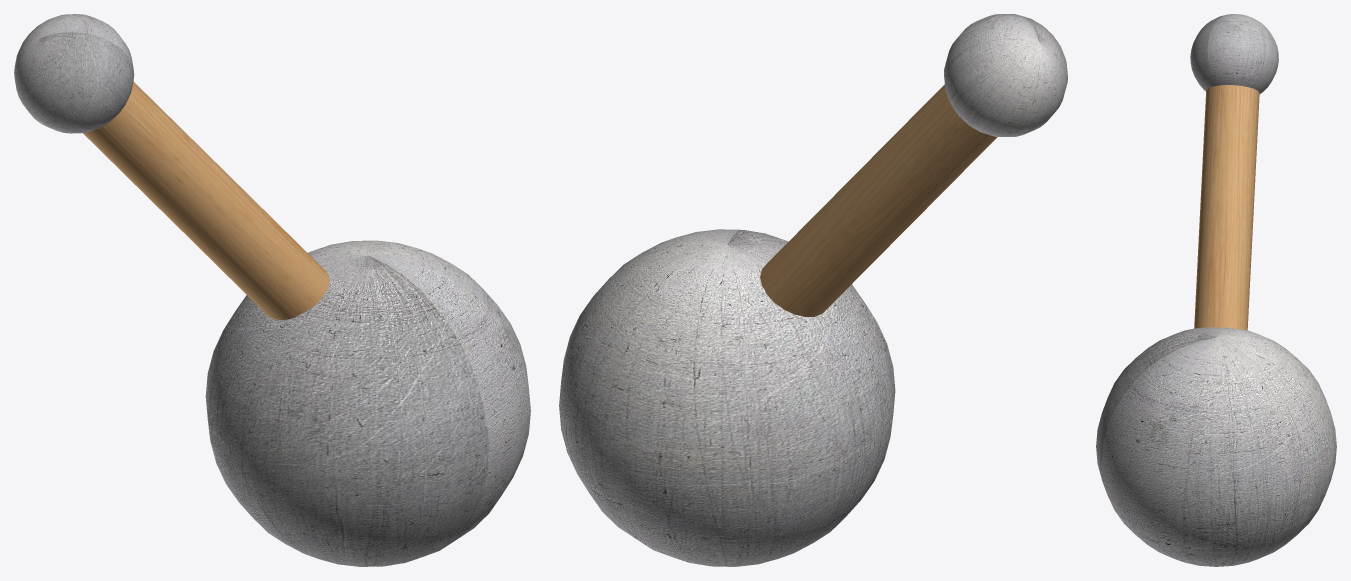
Rendered from controlleron.obj.
3 views of the same model, side by side, from view 1: azimuth 30°, elevation 25°; view 2: azimuth 150°, elevation 25°; view 3: azimuth 270°, elevation 25° (orthographic). The views are drawn at different scales.
Parts seen in each view (by area): view 1: controller2:pSphere3 controller2:group2, controller2:group2 controller2:pCylinder1, controller2:group2 controller2:pCylinder1 controller2:pSphere2; view 2: controller2:pSphere3 controller2:group2, controller2:group2 controller2:pCylinder1, controller2:group2 controller2:pCylinder1 controller2:pSphere2; view 3: controller2:pSphere3 controller2:group2, controller2:group2 controller2:pCylinder1, controller2:group2 controller2:pCylinder1 controller2:pSphere2.
Part boxes in pixels (<box>): controller2:pSphere3 controller2:group2: <box>205,240,530,566</box>; controller2:group2 controller2:pCylinder1: <box>83,81,329,320</box>; controller2:group2 controller2:pCylinder1 controller2:pSphere2: <box>14,14,134,133</box>; controller2:pSphere3 controller2:group2: <box>559,229,895,566</box>; controller2:group2 controller2:pCylinder1: <box>760,84,997,316</box>; controller2:group2 controller2:pCylinder1 controller2:pSphere2: <box>944,14,1067,136</box>; controller2:pSphere3 controller2:group2: <box>1096,327,1336,566</box>; controller2:group2 controller2:pCylinder1: <box>1194,85,1259,330</box>; controller2:group2 controller2:pCylinder1 controller2:pSphere2: <box>1190,14,1278,93</box>.
Bounding box in the file's own units: 1.8 × 2.15 × 1.07.
Materials: 2 (2 with a texture image).
